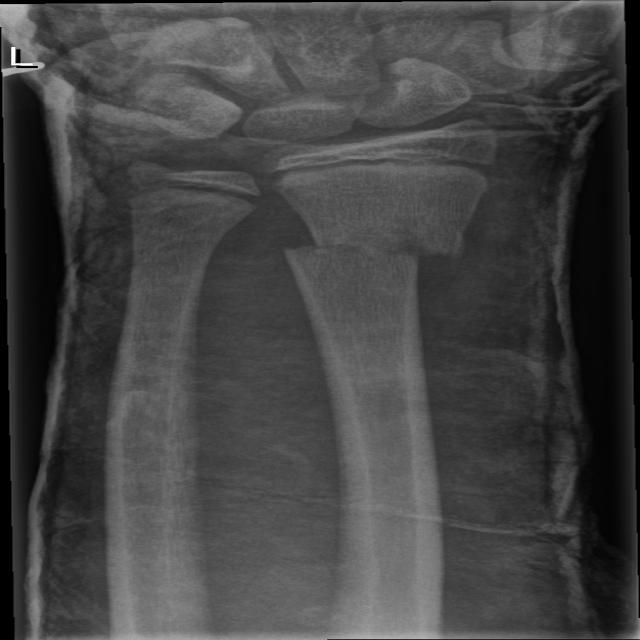radius fracture: (264, 193, 507, 421)
